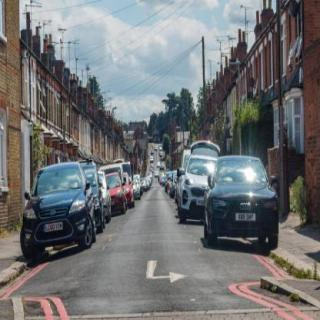Normal_vehicle: (204, 155, 278, 248)
